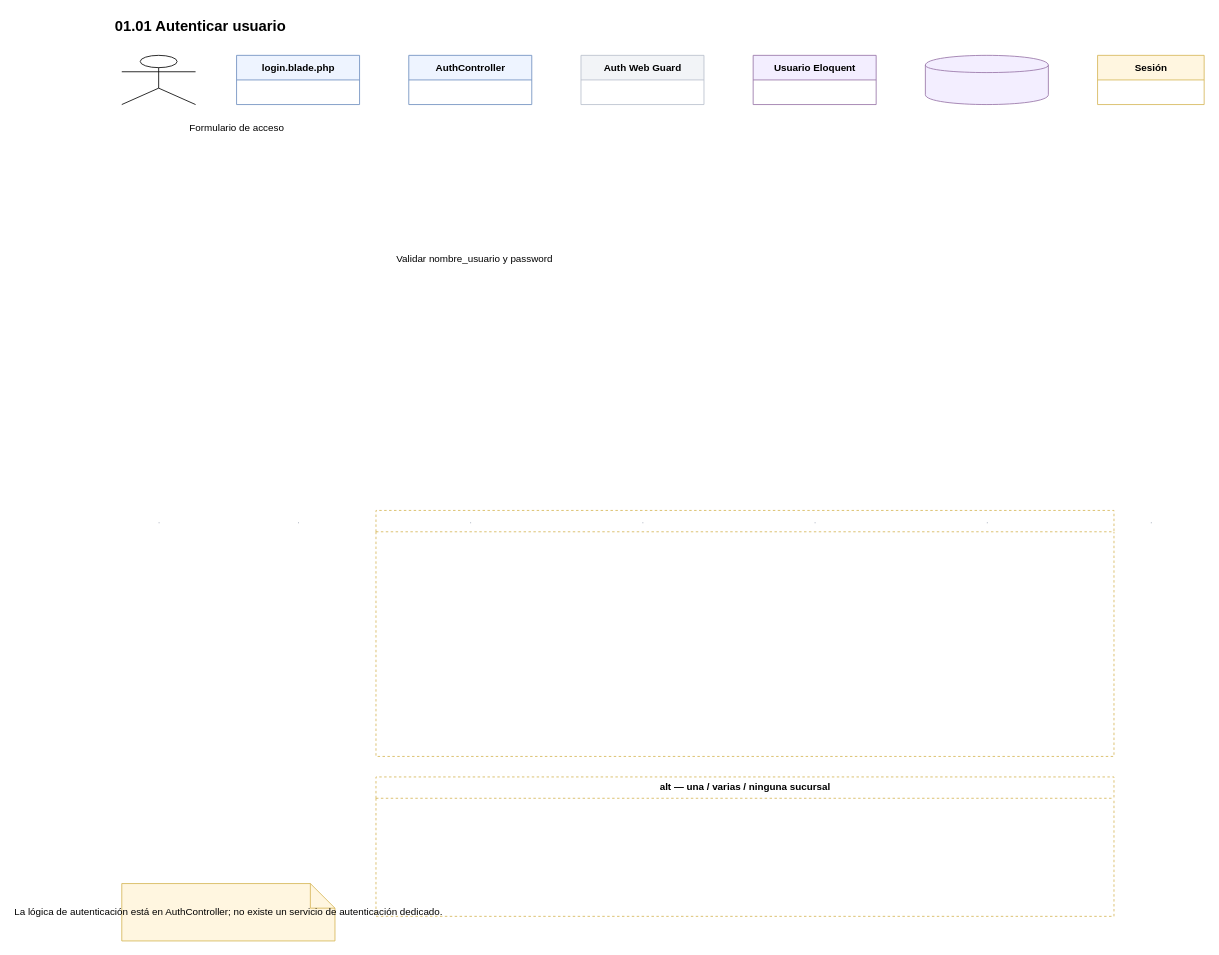
Some shapes in this 1219 by 955 pixel diagram are drawn without their labels. The shapes that lost their labels are listed below. From the top down, each one's centre as x and y in pixels, then its label:
At [158,80]: "Usuario".
At [986,80]: "Base de datos".
At [744,633]: "alt — credenciales inválidas / válidas".
